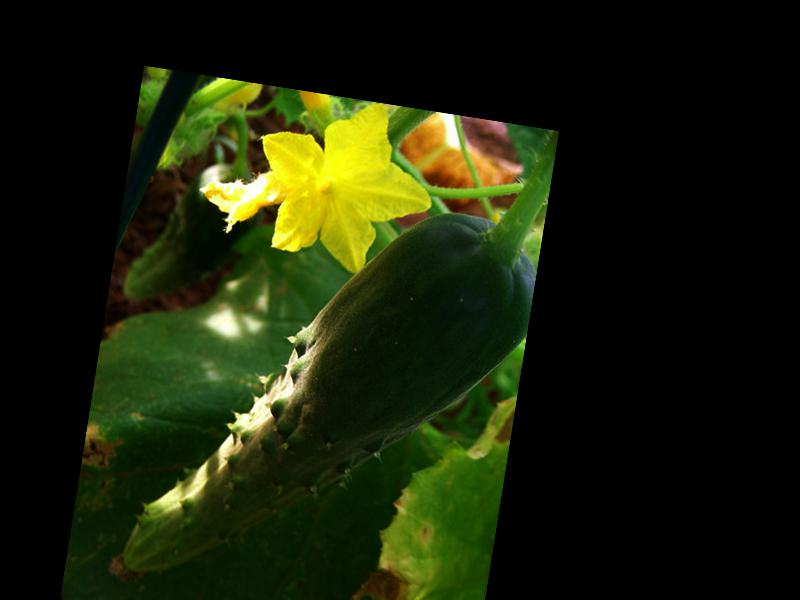Cucumber: (106, 168, 542, 600)
